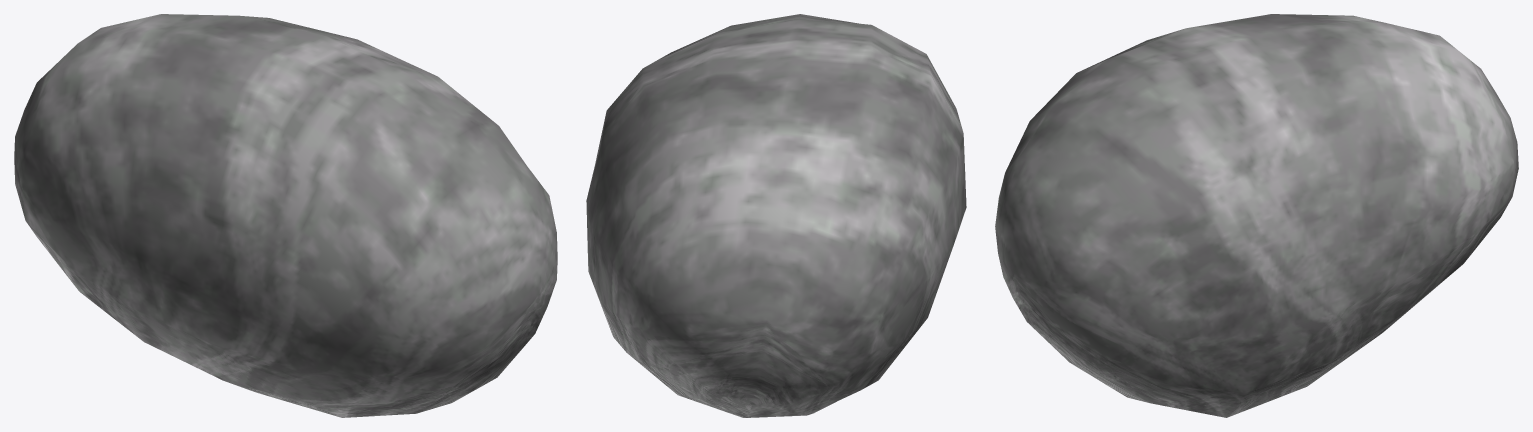
File: Potato_Item (4).fbx
3 renders of one model, left to right at view 1: azimuth 30°, elevation 25°; view 2: azimuth 150°, elevation 25°; view 3: azimuth 270°, elevation 25°, orthographic. The views are drawn at different scales.
Parts seen in each view (by area): view 1: Potato; view 2: Potato; view 3: Potato.
Boxes of the visible parts, <box> form: Potato: <box>14,14,557,417</box>; Potato: <box>586,14,966,417</box>; Potato: <box>995,14,1518,417</box>.
Size of the model in its own units: 0.4621 by 0.4192 by 0.5986.
